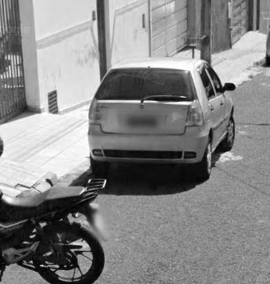car: (82, 42, 240, 180)
